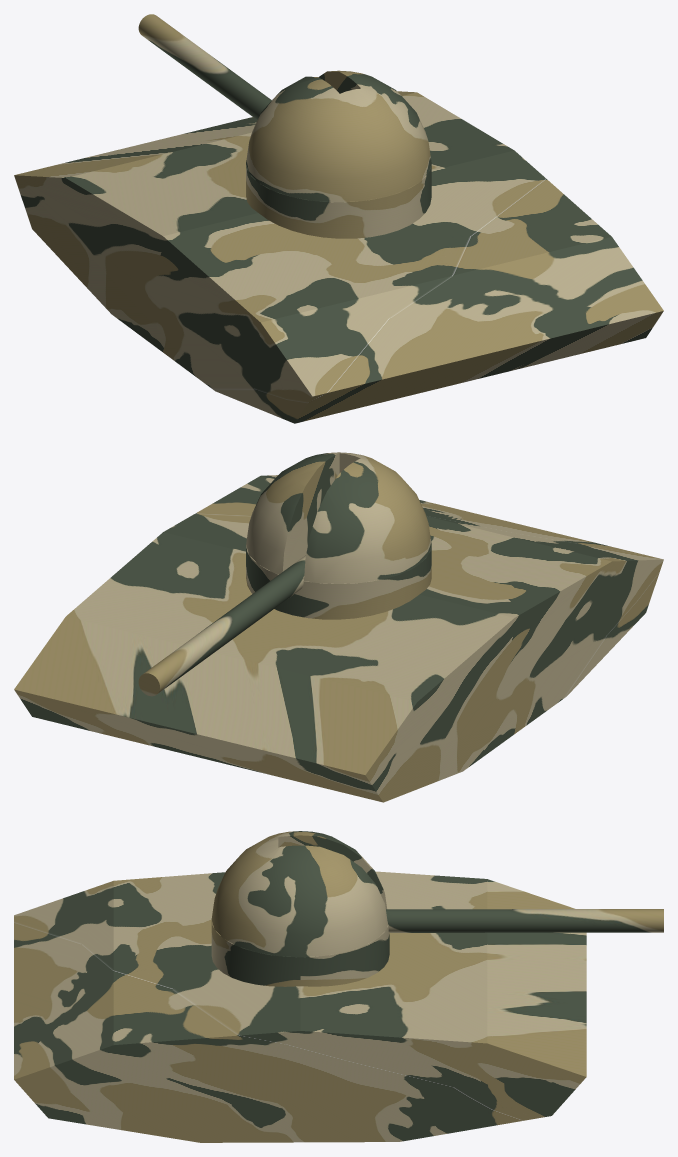
File: Guard.fbx
3 views of the same model, one above another, from view 1: azimuth 30°, elevation 25°; view 2: azimuth 150°, elevation 25°; view 3: azimuth 270°, elevation 25° (orthographic). The views are drawn at different scales.
Parts seen in each view (by area): view 1: base, yr, xr; view 2: base, yr, xr; view 3: base, yr, xr.
Part boxes in pixels (x1,y1,x2,y2): base: (14,91,663,423); yr: (246,70,431,238); xr: (138,14,271,119); base: (14,475,663,802); yr: (246,452,431,619); xr: (138,555,305,696); base: (14,871,586,1142); yr: (211,831,389,986); xr: (386,909,663,932).
Bounding box in the file's own units: 656 × 409 × 1095.
2 materials, 2 textured.
